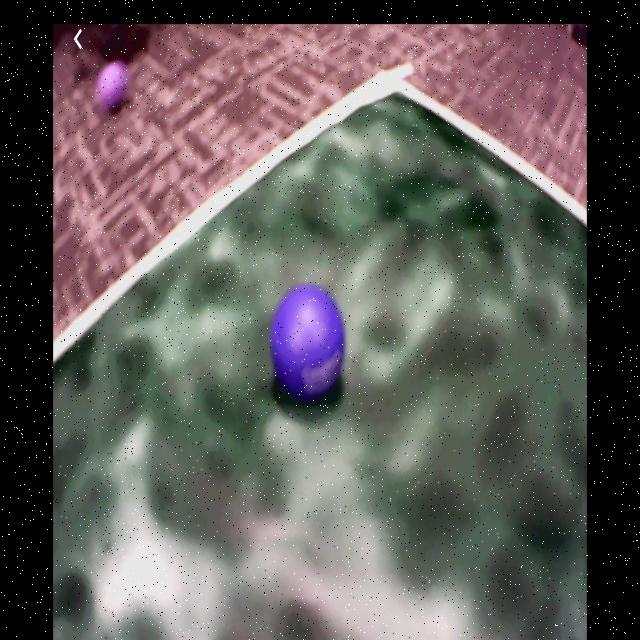ball: (270, 289, 345, 395), (98, 62, 125, 113)
